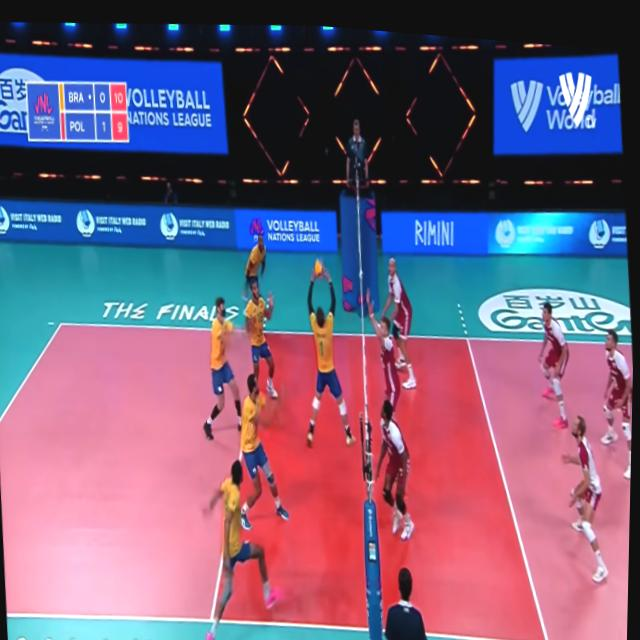player: (197, 454, 286, 640), (233, 359, 296, 525), (304, 267, 357, 446), (563, 402, 618, 574), (197, 289, 249, 435), (359, 276, 410, 424), (591, 315, 635, 469), (377, 386, 422, 533), (379, 244, 425, 386), (535, 287, 578, 422), (243, 270, 284, 403), (238, 224, 272, 294)
